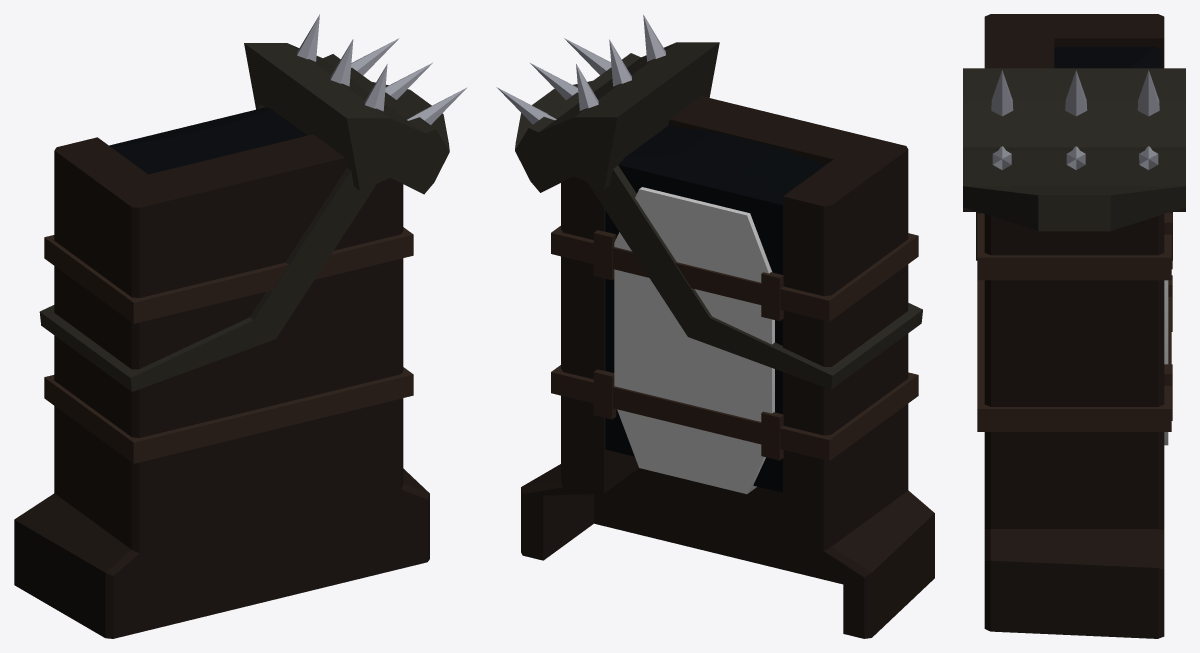
The model's file is tors.obj.
3 renders of one model, left to right at view 1: azimuth 30°, elevation 25°; view 2: azimuth 150°, elevation 25°; view 3: azimuth 270°, elevation 25°, orthographic. The views are drawn at different scales.
Parts seen in each view (by area): view 1: Meshpart6, Meshpart4, Meshpart5, Meshpart2, Meshpart1; view 2: Meshpart6, Meshpart3, Meshpart4, Meshpart5, Meshpart2, Meshpart1; view 3: Meshpart6, Meshpart4, Meshpart5, Meshpart1, Meshpart2, Meshpart3.
Boxes of the visible parts, <box> form: Meshpart6: <box>14,134,429,638</box>; Meshpart4: <box>39,43,449,391</box>; Meshpart5: <box>44,227,413,463</box>; Meshpart2: <box>109,107,307,174</box>; Meshpart1: <box>297,14,467,124</box>; Meshpart6: <box>521,96,934,638</box>; Meshpart3: <box>614,187,774,494</box>; Meshpart4: <box>515,42,922,389</box>; Meshpart5: <box>551,226,918,460</box>; Meshpart2: <box>605,125,825,492</box>; Meshpart1: <box>496,14,665,124</box>; Meshpart6: <box>984,14,1164,638</box>; Meshpart4: <box>963,68,1185,260</box>; Meshpart5: <box>977,212,1172,431</box>; Meshpart1: <box>991,70,1159,169</box>; Meshpart2: <box>1054,47,1161,68</box>; Meshpart3: <box>1164,280,1168,445</box>.
Bounding box in the file's own units: 2.89 × 3.63 × 1.35.
